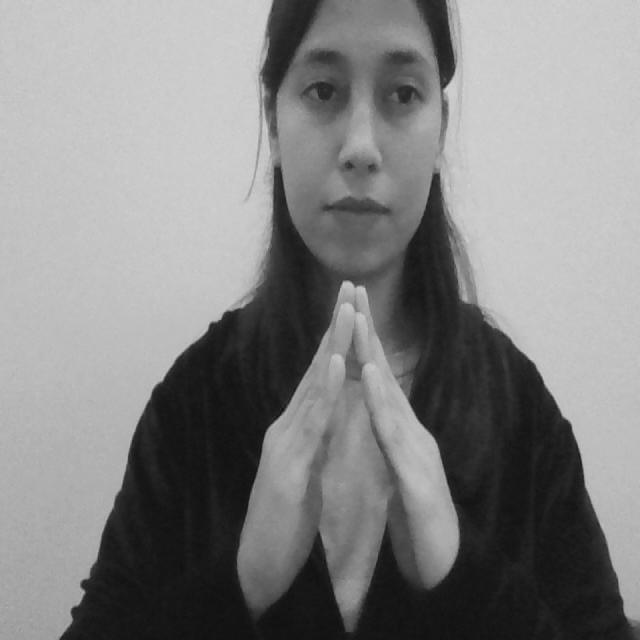Ev: (232, 273, 461, 622)
